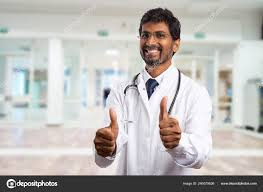Indian_Male: (141, 24, 172, 67)
